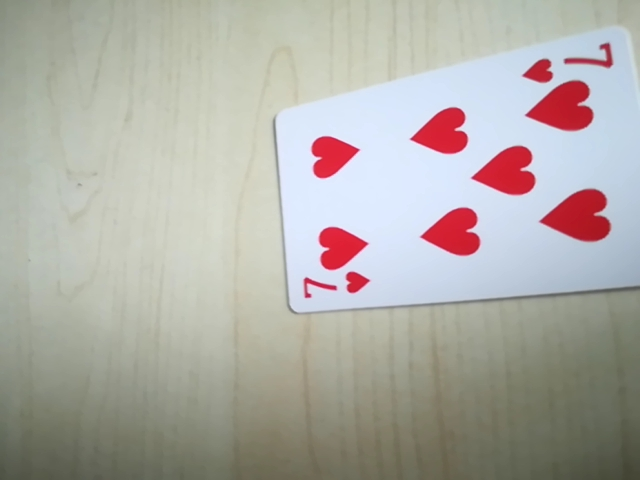hx 7: (522, 38, 624, 84), (296, 268, 375, 308)
